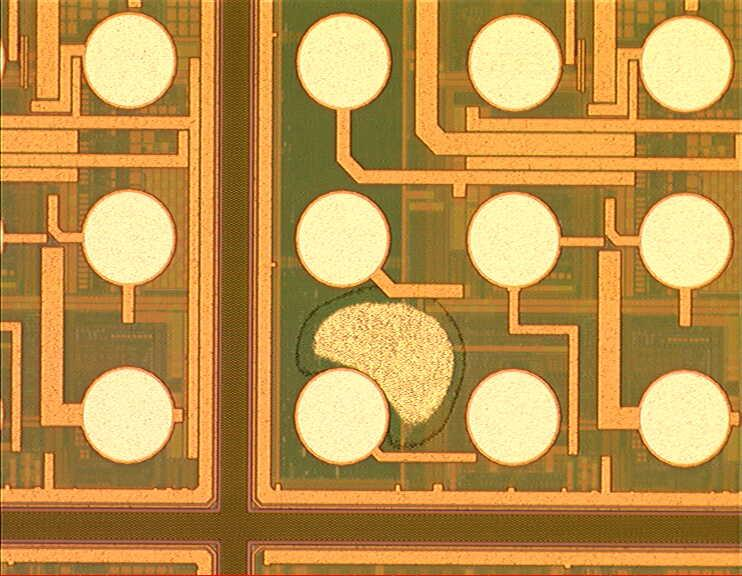BLOCK ETCH: (292, 283, 471, 455)
